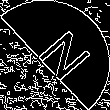N_SW: (22, 23, 88, 87)
